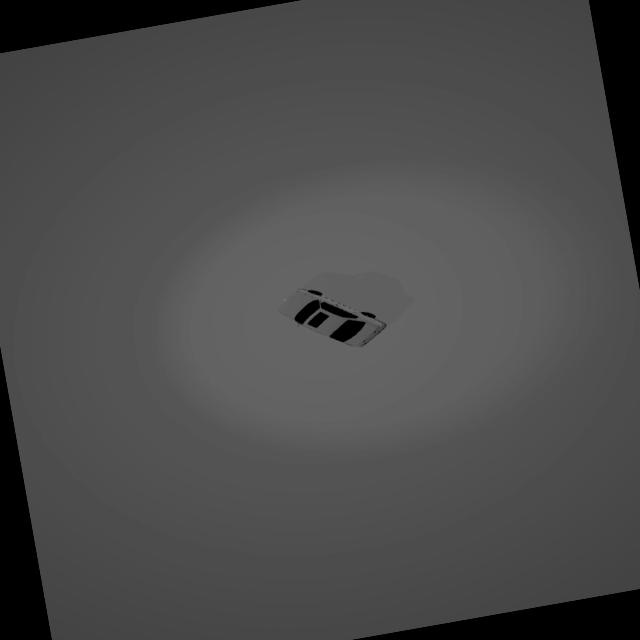Car: (272, 280, 398, 351)
